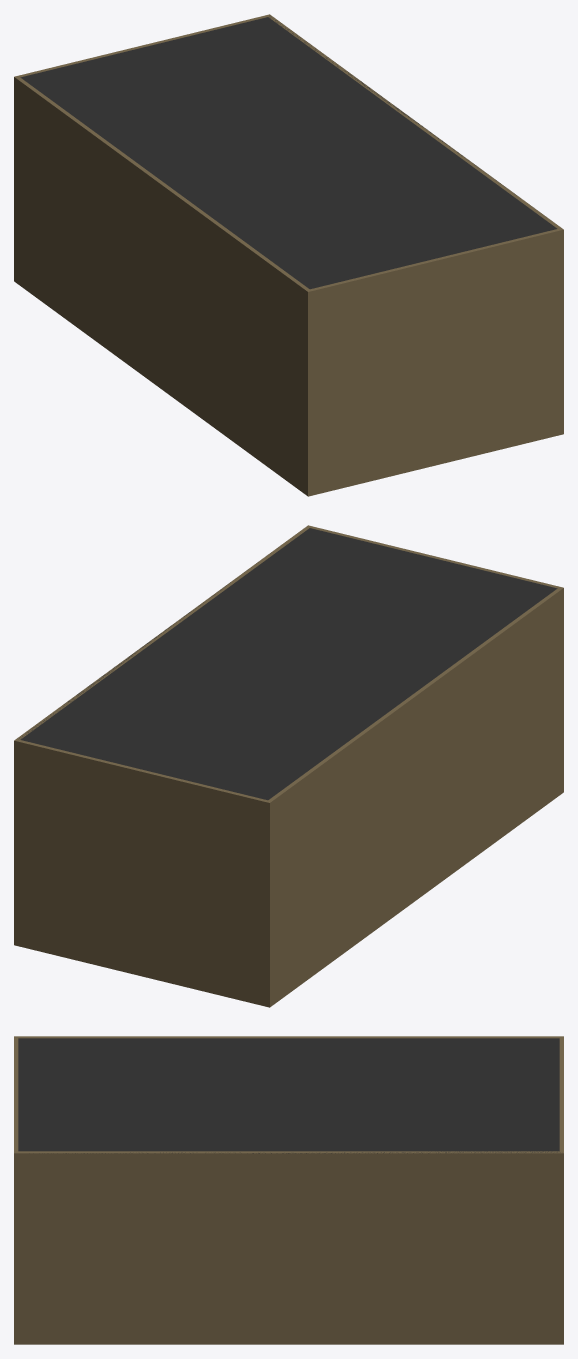
The model's file is Kitchen.fbx.
3 renders of one model, top to bottom at view 1: azimuth 30°, elevation 25°; view 2: azimuth 150°, elevation 25°; view 3: azimuth 270°, elevation 25°, orthographic. The views are drawn at different scales.
Visible parts, largest first — view 1: Cube; view 2: Cube; view 3: Cube.
Boxes of the visible parts, x1,y1,x2,y2 form: Cube: (14, 14, 563, 496); Cube: (14, 525, 563, 1007); Cube: (14, 1036, 563, 1344).
Size of the model in its own units: 1946 by 1492 by 3875.
